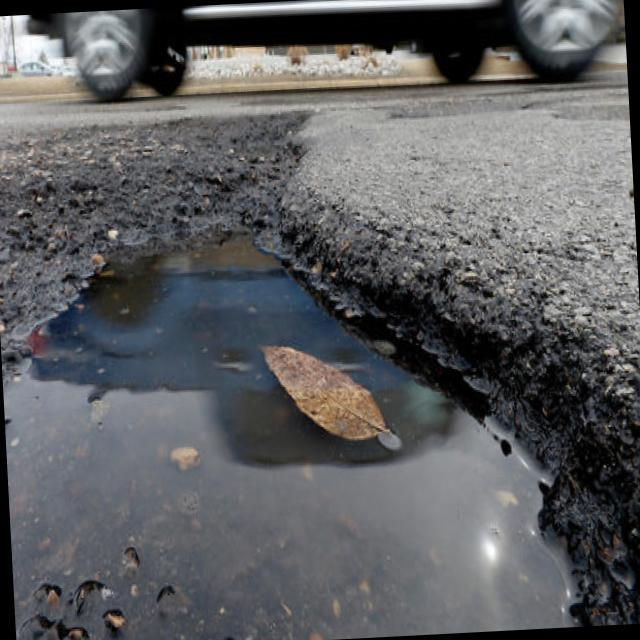Pothole: (0, 183, 598, 640)
